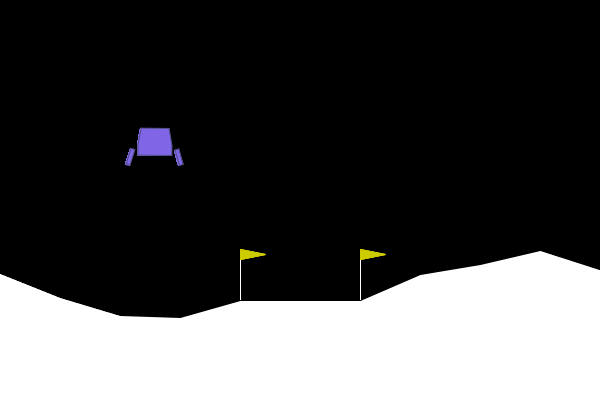lander: (124, 126, 185, 167)
